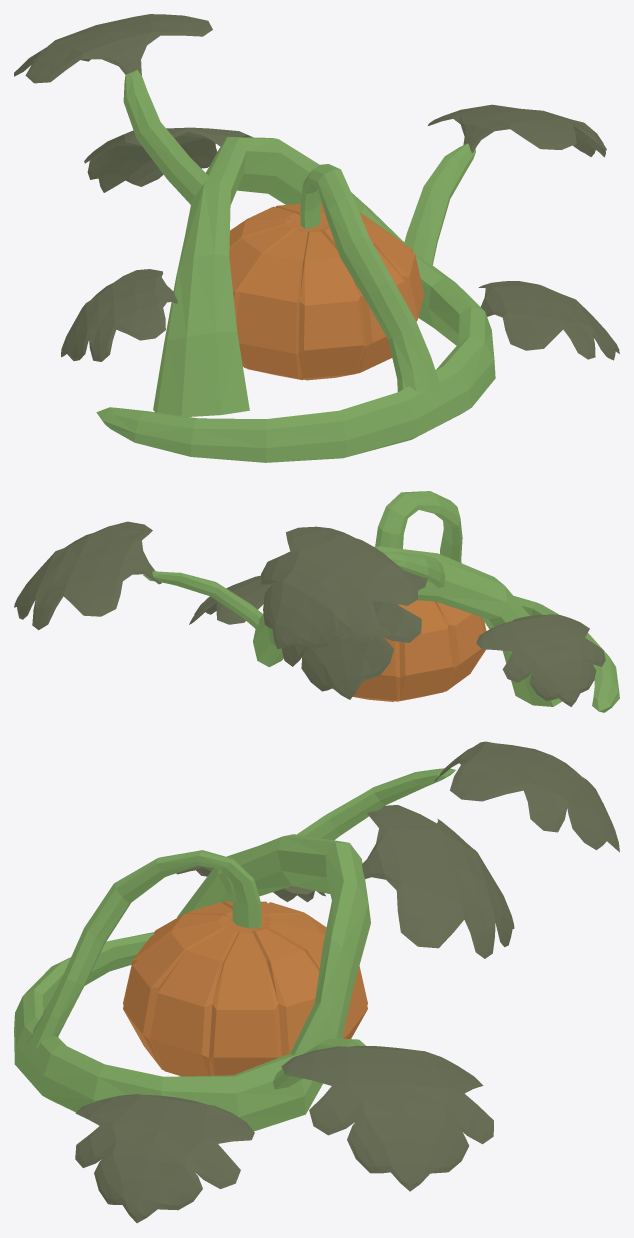
The model's file is Pumpkin_4.glb.
3 renders of one model, top to bottom at view 1: azimuth 30°, elevation 25°; view 2: azimuth 150°, elevation 25°; view 3: azimuth 270°, elevation 25°, orthographic. The views are drawn at different scales.
Parts seen in each view (by area): view 1: Pumpkin_4; view 2: Pumpkin_4; view 3: Pumpkin_4.
Part boxes in pixels (x1=…): Pumpkin_4: x1=14, y1=14, x2=619, y2=462; Pumpkin_4: x1=14, y1=491, x2=619, y2=712; Pumpkin_4: x1=14, y1=741, x2=619, y2=1223.
Bounding box in the file's own units: 1.29 × 0.59 × 1.08.
